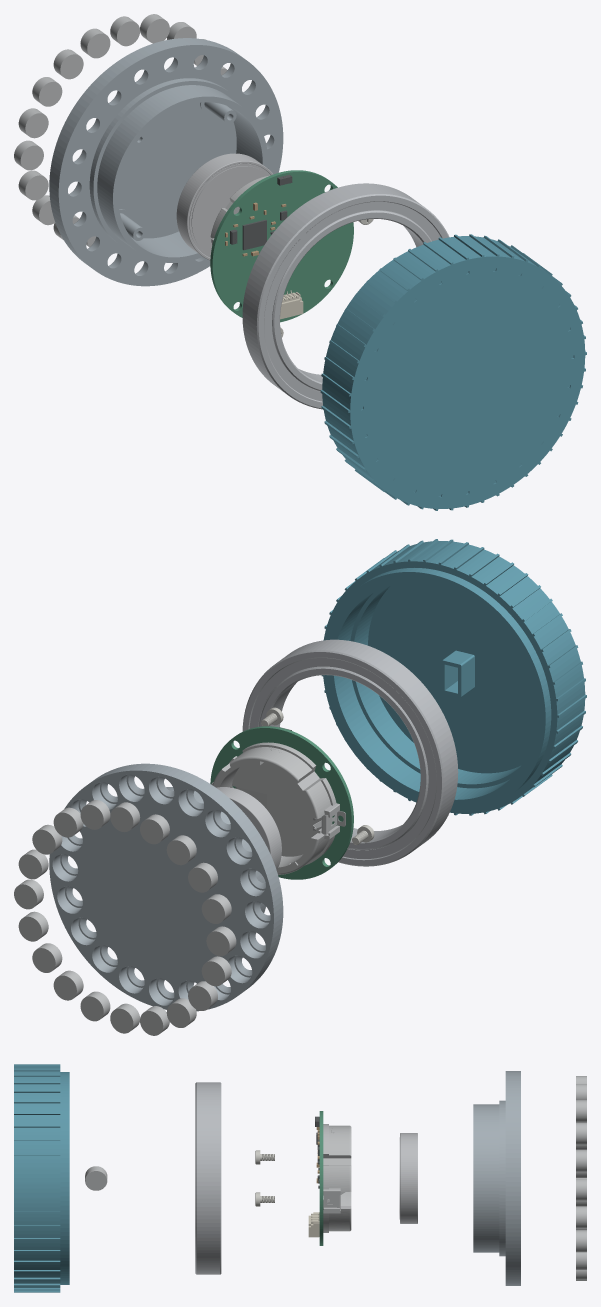
File: V3_exploded.glb
3 renders of one model, top to bottom at view 1: azimuth 30°, elevation 25°; view 2: azimuth 150°, elevation 25°; view 3: azimuth 270°, elevation 25°, orthographic. The views are drawn at different scales.
Parts seen in each view (by area): view 1: Cap_circular, Base_V3_Discs, Bearing_6808, PCB, Cell, Attachment_Disc_07, Attachment_Disc_08, Attachment_Disc_12, Attachment_Disc_09, Attachment_Disc_10, Attachment_Disc_11, Attachment_Disc_06 (+2 smaller); view 2: Cap_circular, Base_V3_Discs, Bearing_6808, Electronic_BT1, PCB, Cell, Attachment_Disc_17, Attachment_Disc_18, Attachment_Disc_11, Attachment_Disc_06, Attachment_Disc_07, Attachment_Disc_08 (+14 smaller); view 3: Cap_circular, Base_V3_Discs, Bearing_6808, Electronic_BT1, Cell, PCB, Magnet, PCB_Fasteners.
Boxes of the visible parts, bbox=[...] form: Cap_circular: bbox=[320, 234, 586, 510]; Base_V3_Discs: bbox=[49, 38, 283, 286]; Bearing_6808: bbox=[242, 183, 449, 409]; PCB: bbox=[210, 170, 353, 322]; Cell: bbox=[176, 153, 273, 260]; Attachment_Disc_07: bbox=[80, 28, 110, 58]; Attachment_Disc_08: bbox=[53, 49, 83, 79]; Attachment_Disc_12: bbox=[18, 170, 48, 200]; Attachment_Disc_09: bbox=[32, 77, 62, 106]; Attachment_Disc_10: bbox=[18, 108, 48, 138]; Attachment_Disc_11: bbox=[14, 140, 43, 170]; Attachment_Disc_06: bbox=[110, 16, 139, 46]; Cap_circular: bbox=[321, 539, 586, 815]; Base_V3_Discs: bbox=[49, 763, 283, 1011]; Bearing_6808: bbox=[242, 639, 458, 866]; Electronic_BT1: bbox=[211, 742, 345, 874]; PCB: bbox=[210, 726, 353, 879]; Cell: bbox=[216, 787, 281, 870]; Attachment_Disc_17: bbox=[80, 991, 110, 1021]; Attachment_Disc_18: bbox=[53, 970, 83, 1000]; Attachment_Disc_11: bbox=[206, 926, 236, 956]; Attachment_Disc_06: bbox=[110, 802, 140, 832]; Attachment_Disc_07: bbox=[140, 814, 169, 844]; Attachment_Disc_08: bbox=[166, 835, 196, 865]; Cap_circular: bbox=[14, 1064, 69, 1292]; Base_V3_Discs: bbox=[473, 1071, 520, 1285]; Bearing_6808: bbox=[195, 1082, 221, 1274]; Electronic_BT1: bbox=[323, 1124, 351, 1232]; Cell: bbox=[399, 1133, 417, 1223]; PCB: bbox=[319, 1111, 323, 1245]; Magnet: bbox=[85, 1166, 107, 1190]; PCB_Fasteners: bbox=[255, 1150, 274, 1206].
Size of the model in its own units: 61.6 by 61.6 by 155.
